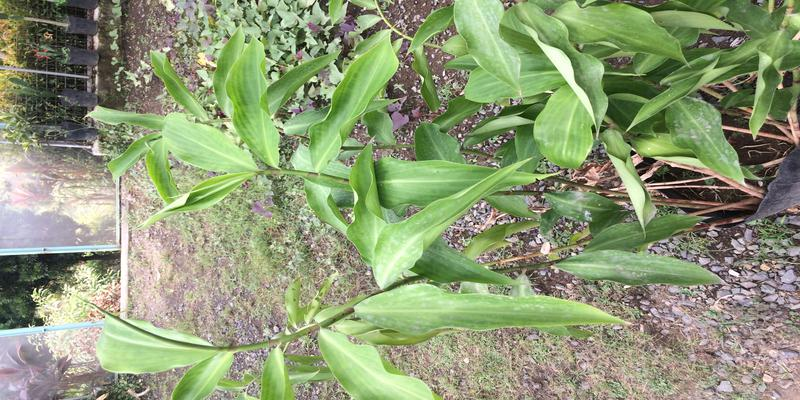Insulin: (103, 106, 744, 364)
